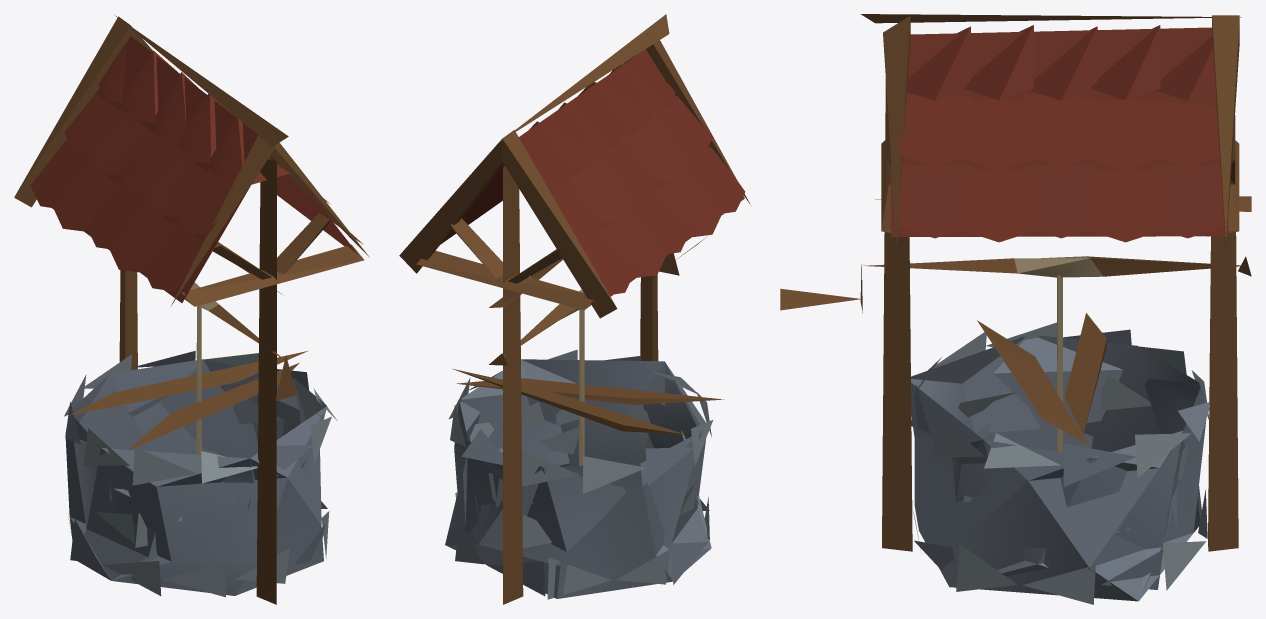
File: Well LOD2.fbx
The picture shows the model from 3 angles, left to right: view 1: azimuth 30°, elevation 25°; view 2: azimuth 150°, elevation 25°; view 3: azimuth 270°, elevation 25°; orthographic projection. The views are drawn at different scales.
Visible parts, largest first — view 1: Well; view 2: Well; view 3: Well.
Part boxes in pixels (bbox=[...]): Well: bbox=[14, 15, 369, 604]; Well: bbox=[399, 14, 750, 604]; Well: bbox=[780, 14, 1251, 604].
Bounding box in the file's own units: 65.47 × 124 × 99.21.
